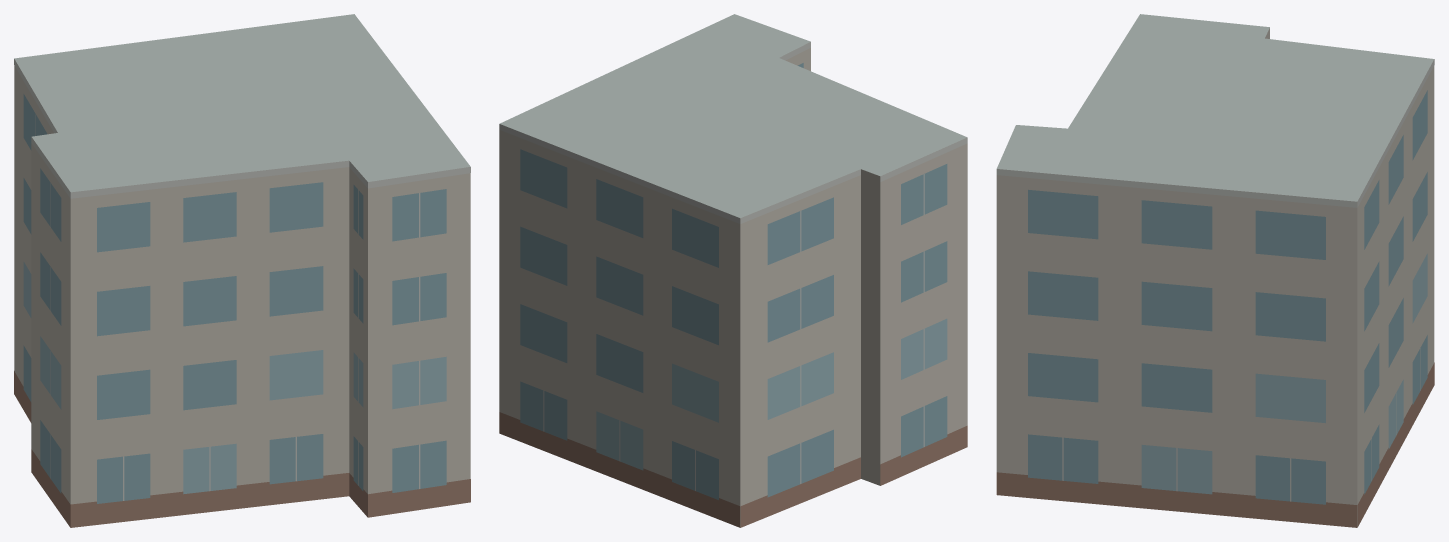
The model's file is survey-upis-32663570.glb.
3 renders of one model, left to right at view 1: azimuth 30°, elevation 25°; view 2: azimuth 150°, elevation 25°; view 3: azimuth 270°, elevation 25°, orthographic. The views are drawn at different scales.
Parts seen in each view (by area): view 1: survey-upis-32663570.tmp; view 2: survey-upis-32663570.tmp; view 3: survey-upis-32663570.tmp.
Part boxes in pixels (<box>): survey-upis-32663570.tmp: <box>14,14,470,527</box>; survey-upis-32663570.tmp: <box>499,14,967,527</box>; survey-upis-32663570.tmp: <box>996,14,1434,527</box>.
Size of the model in its own units: 15.81 by 12.8 by 15.58.
